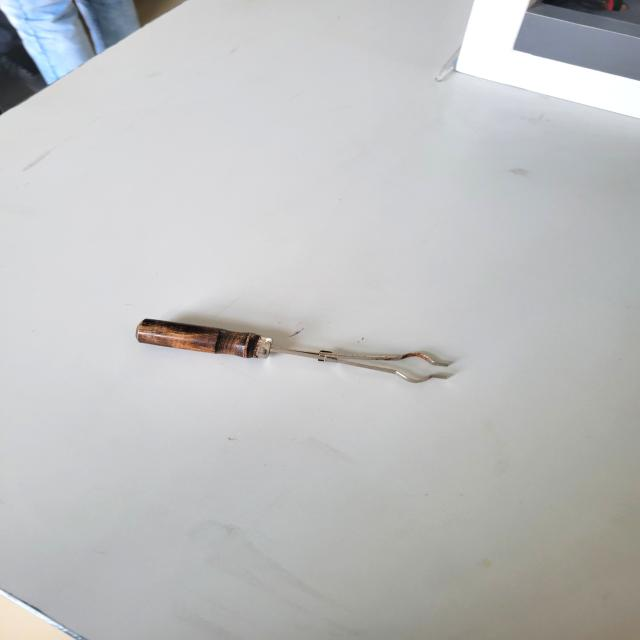TestTube_Holder: (113, 289, 459, 409)
